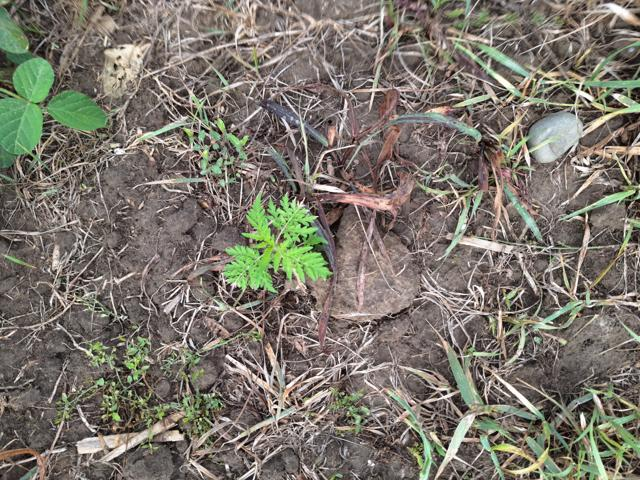bad weed: (371, 0, 640, 240), (387, 308, 640, 480), (63, 306, 208, 428), (206, 181, 351, 295), (159, 106, 260, 177)
